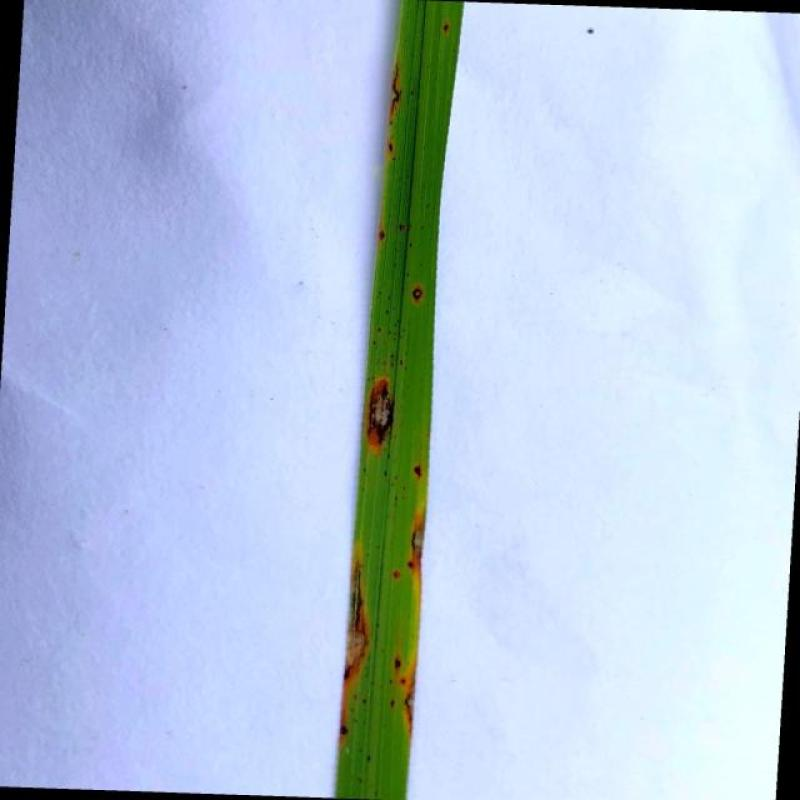Leaf_Blast: (344, 561, 376, 684), (366, 379, 397, 451), (388, 60, 403, 128), (408, 514, 424, 568), (404, 674, 415, 731), (410, 284, 426, 304), (391, 650, 404, 674), (412, 461, 422, 479), (339, 722, 350, 738), (387, 138, 395, 152), (379, 230, 386, 245)
